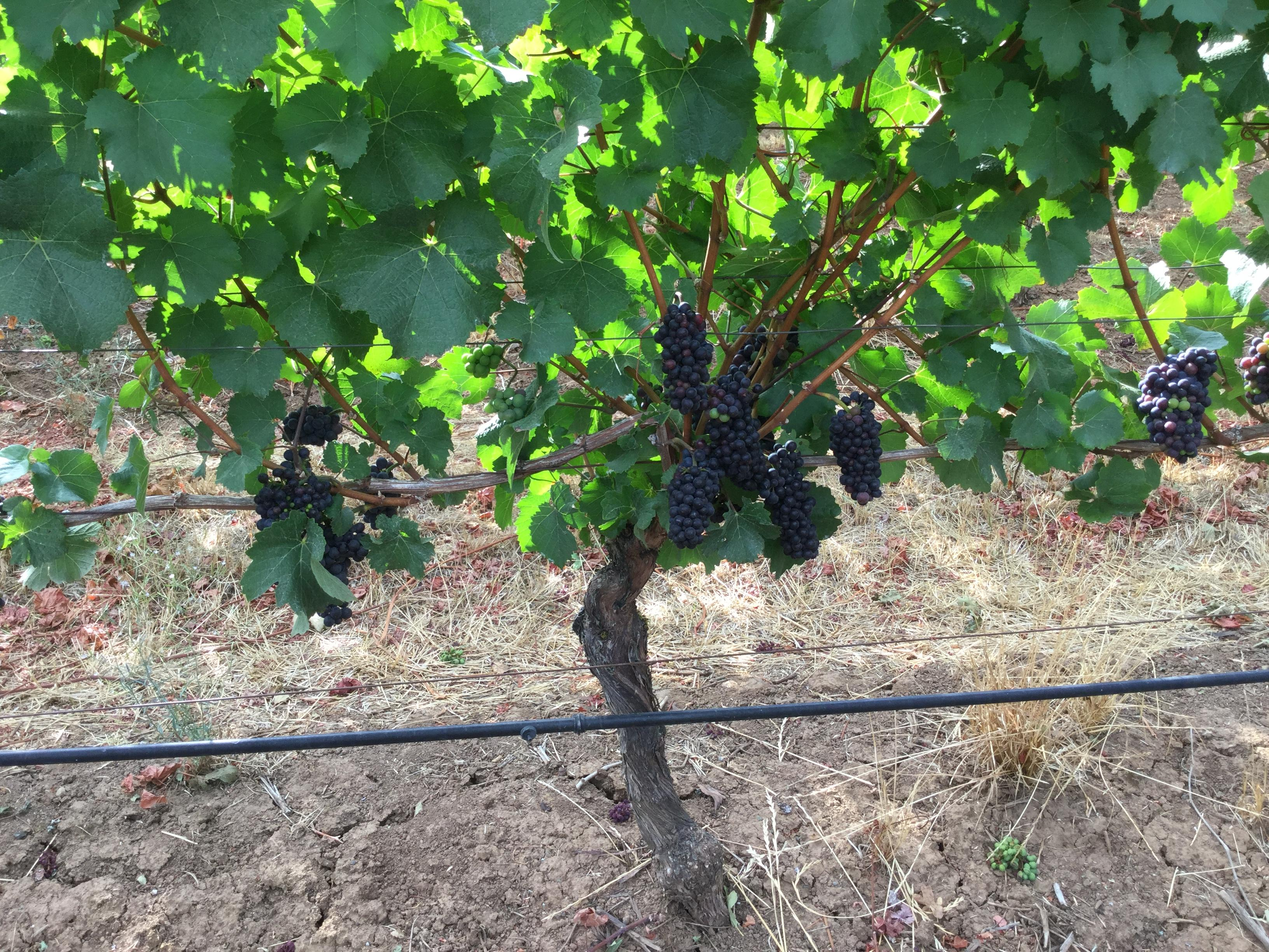leaf: (331, 208, 500, 357), (0, 170, 135, 350), (86, 47, 243, 193), (341, 50, 465, 211), (489, 63, 601, 229), (0, 42, 100, 177), (241, 513, 353, 630), (257, 239, 373, 350), (164, 303, 283, 397), (158, 0, 291, 84), (133, 208, 240, 307), (524, 242, 629, 333), (774, 0, 887, 80), (304, 0, 409, 86), (0, 499, 99, 590), (944, 61, 1033, 159), (1091, 33, 1183, 125), (1016, 99, 1101, 197), (274, 82, 369, 167), (1022, 0, 1122, 76), (1147, 84, 1224, 182), (430, 192, 507, 283), (629, 0, 750, 56), (5, 0, 117, 59), (230, 89, 285, 207), (1067, 457, 1160, 521), (1200, 28, 1268, 114), (808, 108, 880, 180), (1159, 217, 1241, 280), (516, 481, 577, 565), (269, 173, 332, 250), (496, 302, 576, 362), (1007, 324, 1075, 394), (706, 500, 780, 563), (962, 186, 1040, 244), (908, 120, 975, 187), (460, 0, 547, 50), (1026, 219, 1090, 286), (367, 516, 434, 578), (30, 449, 101, 504), (550, 0, 626, 49), (961, 350, 1021, 411), (226, 390, 287, 446), (1011, 392, 1069, 448), (236, 216, 287, 278), (1072, 389, 1124, 449), (110, 435, 149, 511), (936, 416, 1003, 460), (216, 439, 263, 492), (89, 396, 114, 458), (0, 443, 29, 485), (357, 350, 364, 355), (552, 11, 554, 19), (0, 478, 3, 482), (234, 397, 237, 399), (785, 205, 788, 207), (493, 0, 499, 1), (133, 437, 135, 438), (1038, 444, 1042, 444), (530, 361, 534, 361)
